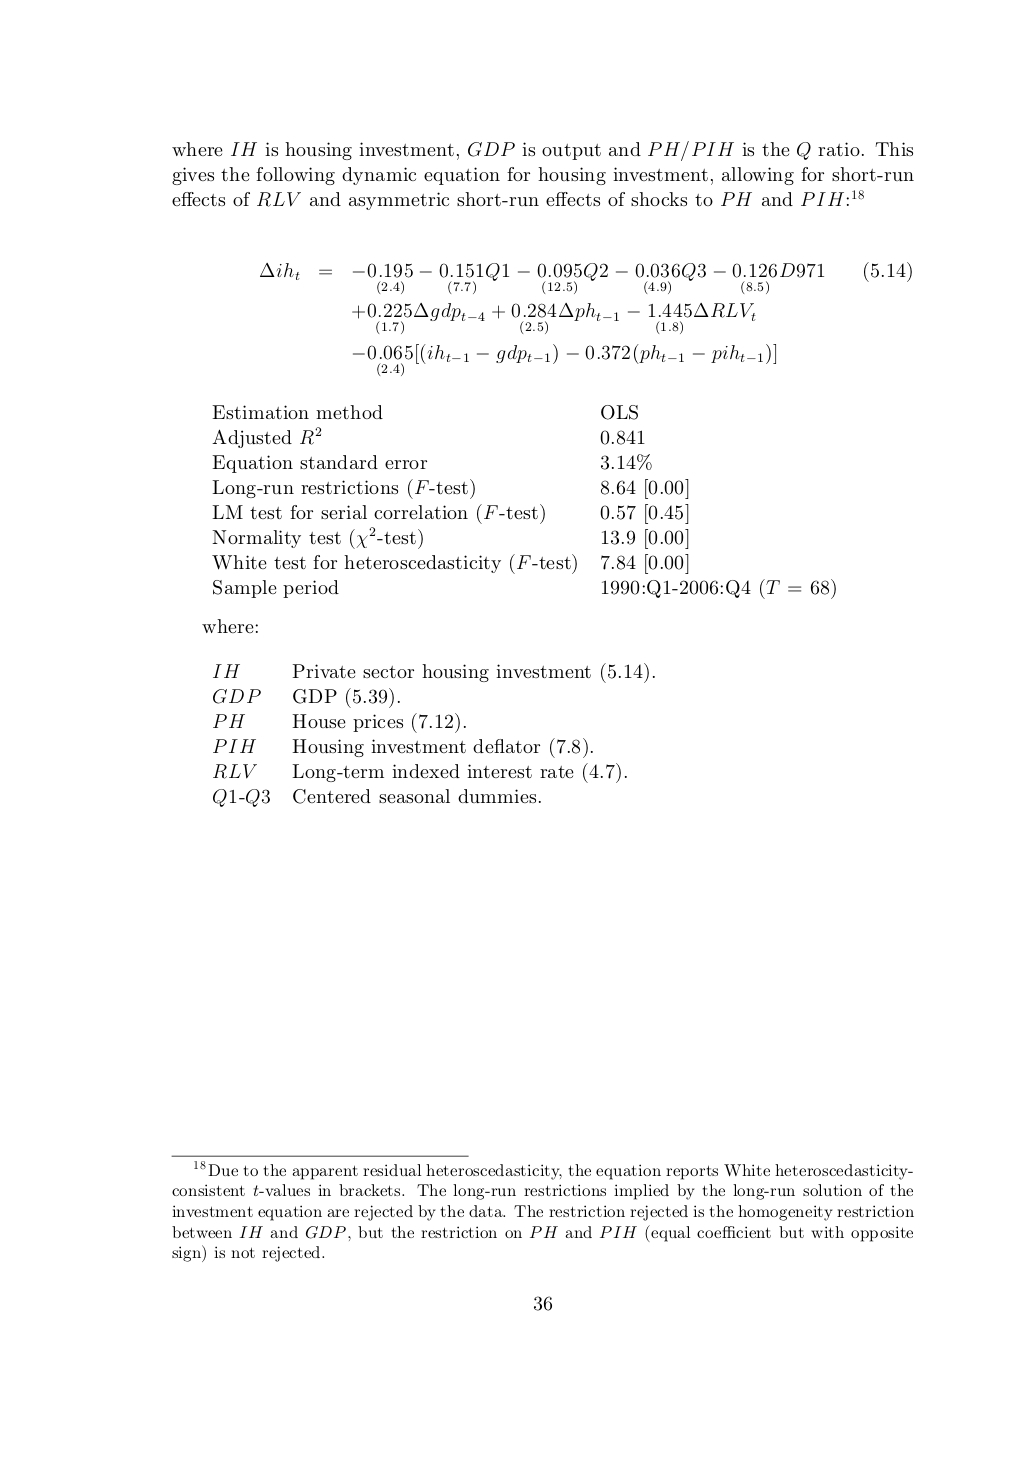Table: (212, 405, 835, 598)
formula: (260, 261, 911, 295), (352, 342, 776, 377), (352, 301, 755, 335)
